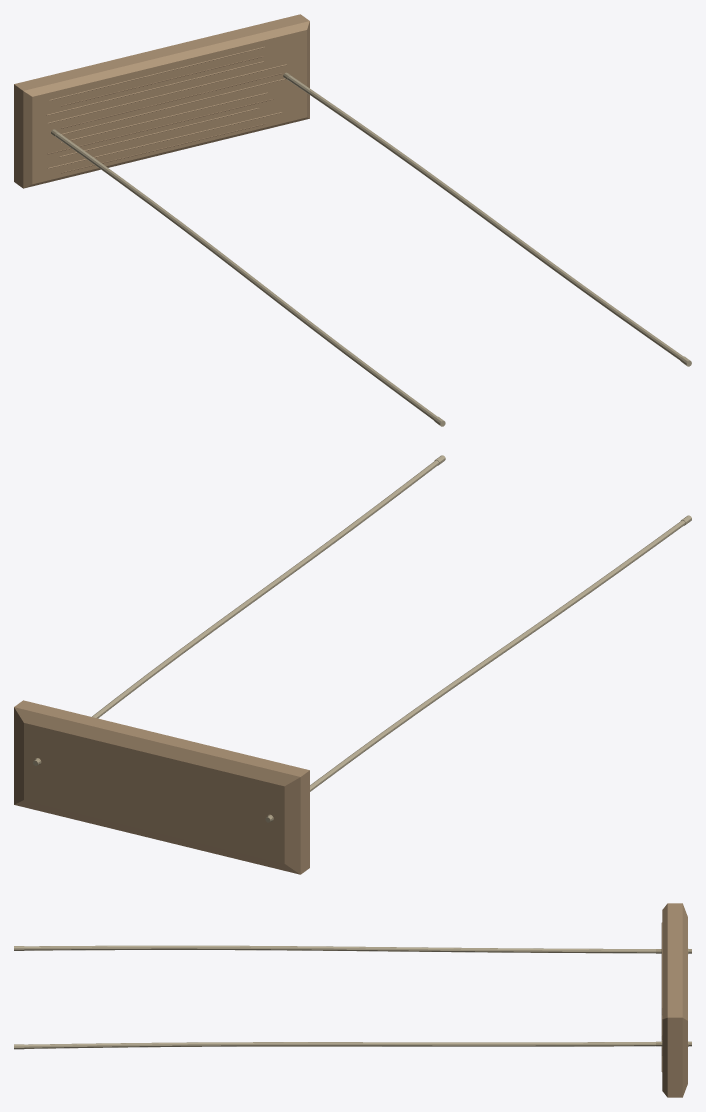
The model's file is ayunan_shelter.glb.
The picture shows the model from 3 angles, top to bottom: view 1: azimuth 30°, elevation 25°; view 2: azimuth 150°, elevation 25°; view 3: azimuth 270°, elevation 25°; orthographic projection. The views are drawn at different scales.
Visible parts, largest first — view 1: Seat | honey brown wooden plank; view 2: Seat | honey brown wooden plank; view 3: Seat | honey brown wooden plank.
Part boxes in pixels (left/top/right/bottom): Seat | honey brown wooden plank: left=14, top=14, right=309, bottom=188; Seat | honey brown wooden plank: left=14, top=700, right=309, bottom=874; Seat | honey brown wooden plank: left=662, top=903, right=687, bottom=1097.
Bounding box in the file's own units: 1.32 × 0.43 × 3.3.
